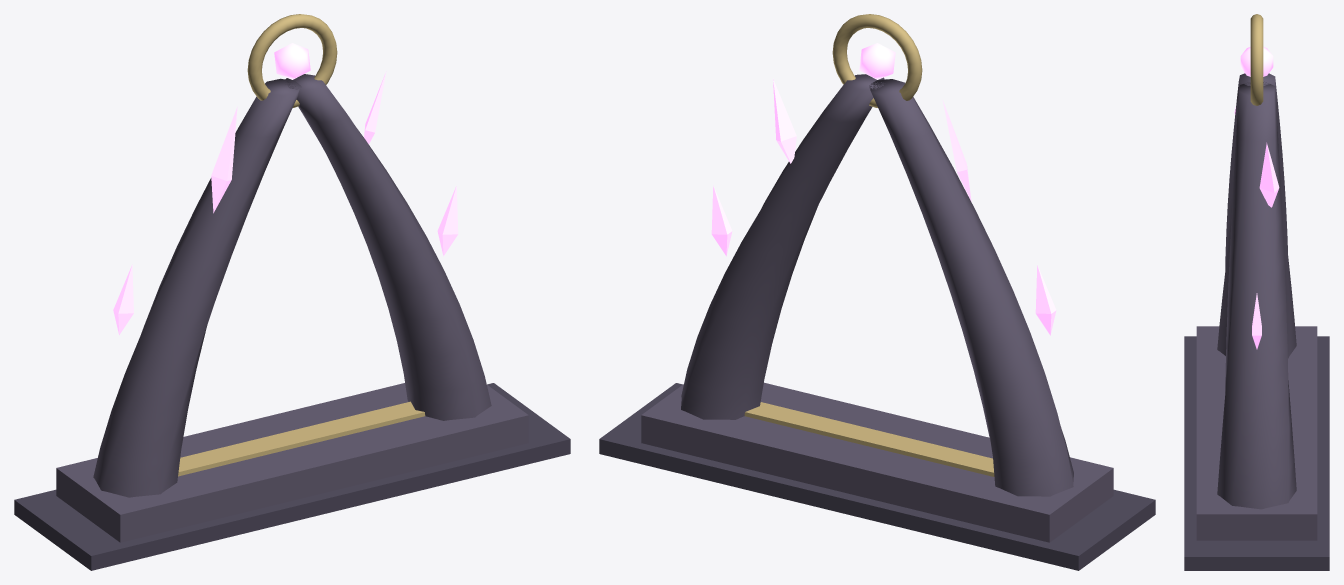
The model's file is portal_baldemar.glb.
3 views of the same model, side by side, from view 1: azimuth 30°, elevation 25°; view 2: azimuth 150°, elevation 25°; view 3: azimuth 270°, elevation 25° (orthographic). The views are drawn at different scales.
Parts seen in each view (by area): view 1: base_1, pillar_l, pillar_r, base_0, inlay, crown_ring, shard_2, crown_gem, shard_0, shard_3; view 2: base_1, pillar_l, pillar_r, base_0, inlay, crown_ring, crown_gem, shard_1, shard_0, shard_3, shard_2; view 3: pillar_r, base_1, base_0, pillar_l, crown_ring, shard_1, crown_gem, shard_0.
Part boxes in pixels (x1,y1,x2,y2): base_1: (56,383,528,542); pillar_l: (93,78,301,497); pillar_r: (285,74,491,420); base_0: (14,383,570,570); inlay: (178,401,425,476); crown_ring: (247,14,337,107); shard_2: (211,106,237,213); crown_gem: (274,43,310,79); shard_0: (437,186,458,256); shard_3: (113,265,133,334); base_1: (641,382,1113,542); pillar_l: (869,79,1073,496); pillar_r: (681,74,884,419); base_0: (599,383,1155,570); inlay: (744,402,994,476); crown_ring: (832,14,922,107); crown_gem: (859,43,895,79); shard_1: (773,78,796,163); shard_0: (711,186,732,256); shard_3: (1035,265,1056,335); shard_2: (942,100,971,201); pillar_r: (1217,82,1296,509); base_1: (1196,326,1317,540); base_0: (1184,336,1329,570); pillar_l: (1217,73,1296,358); crown_ring: (1250,14,1263,105); shard_1: (1259,142,1279,207); crown_gem: (1240,47,1273,76); shard_0: (1252,293,1261,349).
Bounding box in the file's own units: 5.4 × 5.05 × 1.5.
